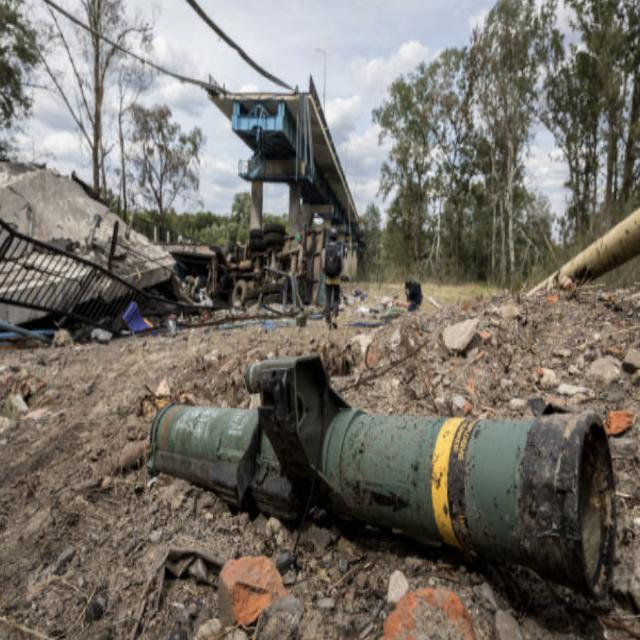bazooka: (144, 350, 637, 633)
